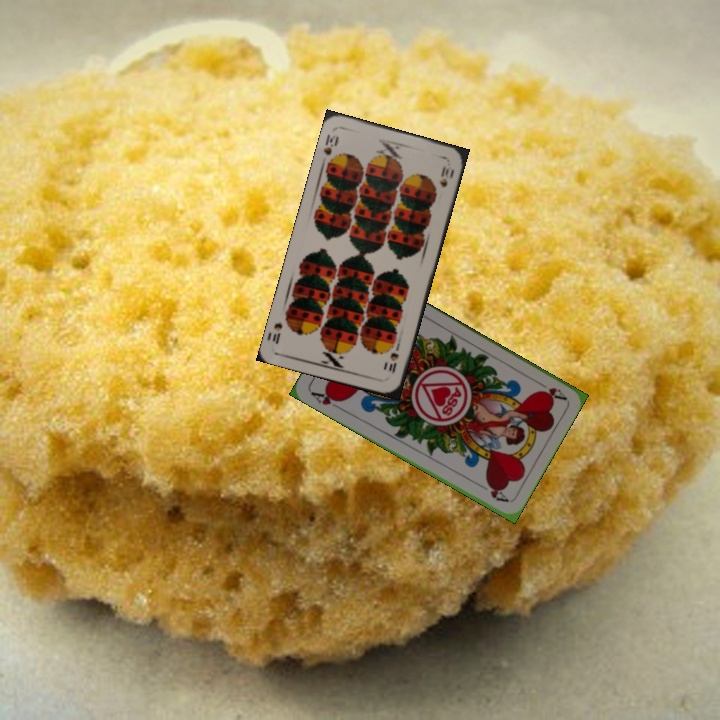HA: (531, 376, 568, 403), (307, 387, 345, 413)
S10: (384, 341, 402, 376), (319, 130, 341, 158)
